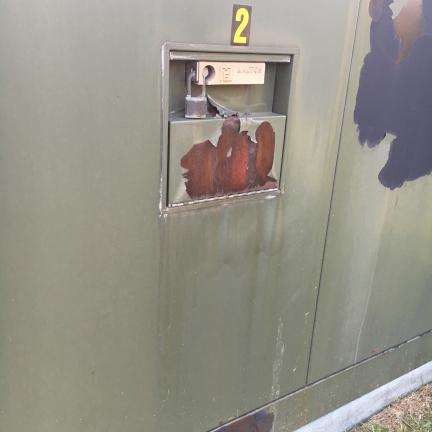karat: (179, 112, 279, 202)
